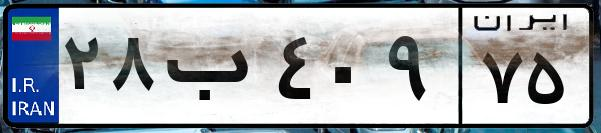0: (330, 28, 385, 110)
2: (57, 26, 110, 100)
4: (270, 28, 330, 110)
5: (525, 38, 570, 115)
7: (475, 38, 525, 113)
8: (110, 28, 158, 98)
9: (385, 28, 445, 110)
ب: (158, 20, 270, 120)
